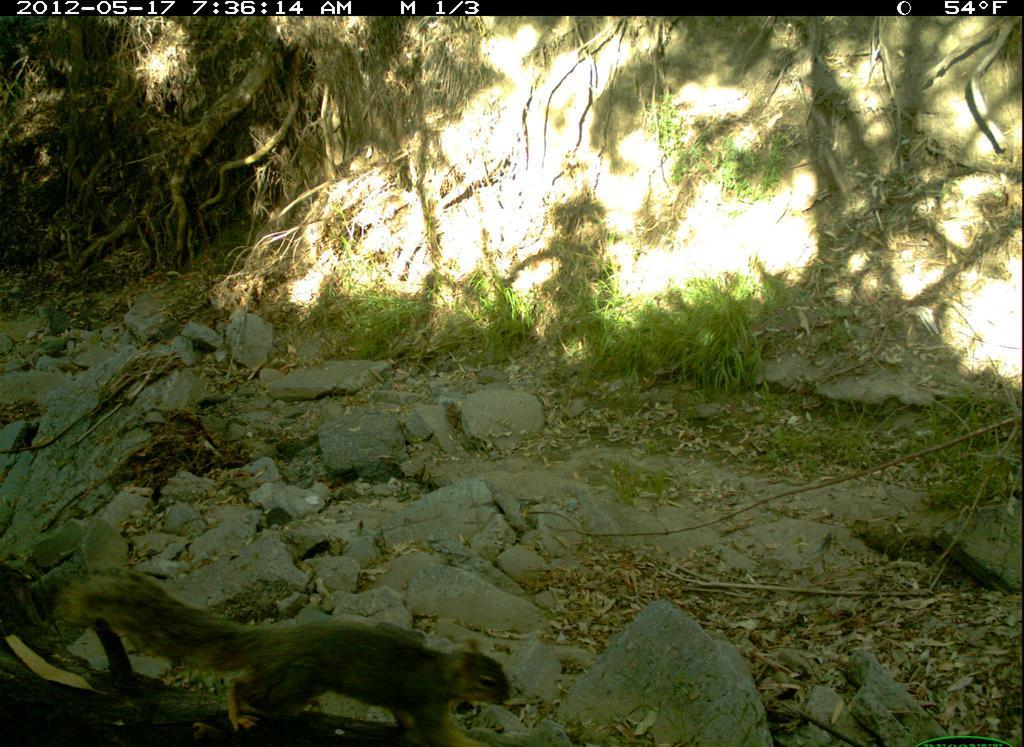squirrel: (47, 564, 523, 747)
